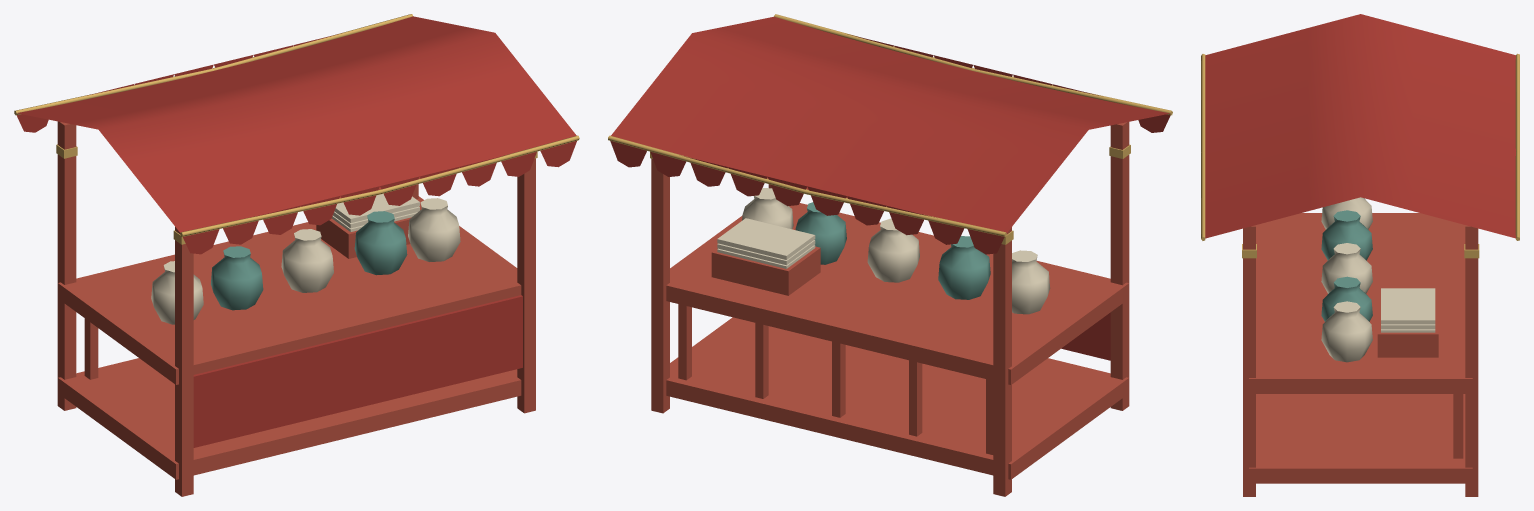
File: market_stall.glb
3 renders of one model, left to right at view 1: azimuth 30°, elevation 25°; view 2: azimuth 150°, elevation 25°; view 3: azimuth 270°, elevation 25°, orthographic. The views are drawn at different scales.
Visible parts, largest first — view 1: market_stall_Cloth, market_stall_Timber, market_stall_Paper, market_stall_Jade, market_stall_Gold; view 2: market_stall_Timber, market_stall_Cloth, market_stall_Paper, market_stall_Jade, market_stall_Gold; view 3: market_stall_Cloth, market_stall_Timber, market_stall_Paper, market_stall_Jade, market_stall_Gold.
Part boxes in pixels (left/top/right/bottom): market_stall_Cloth: left=16, top=16, right=576, bottom=447; market_stall_Timber: left=57, top=121, right=535, bottom=496; market_stall_Paper: left=151, top=193, right=460, bottom=324; market_stall_Jade: left=211, top=211, right=407, bottom=310; market_stall_Gold: left=14, top=14, right=579, bottom=244; market_stall_Timber: left=651, top=122, right=1129, bottom=496; market_stall_Cloth: left=610, top=16, right=1170, bottom=360; market_stall_Paper: left=717, top=188, right=1050, bottom=314; market_stall_Jade: left=795, top=202, right=990, bottom=299; market_stall_Gold: left=608, top=14, right=1172, bottom=244; market_stall_Cloth: left=1205, top=14, right=1515, bottom=238; market_stall_Timber: left=1243, top=213, right=1478, bottom=496; market_stall_Paper: left=1321, top=197, right=1435, bottom=362; market_stall_Jade: left=1321, top=210, right=1372, bottom=321; market_stall_Gold: left=1201, top=53, right=1519, bottom=258.
Bounding box in the file's own units: 3.2 × 2.52 × 2.35.
